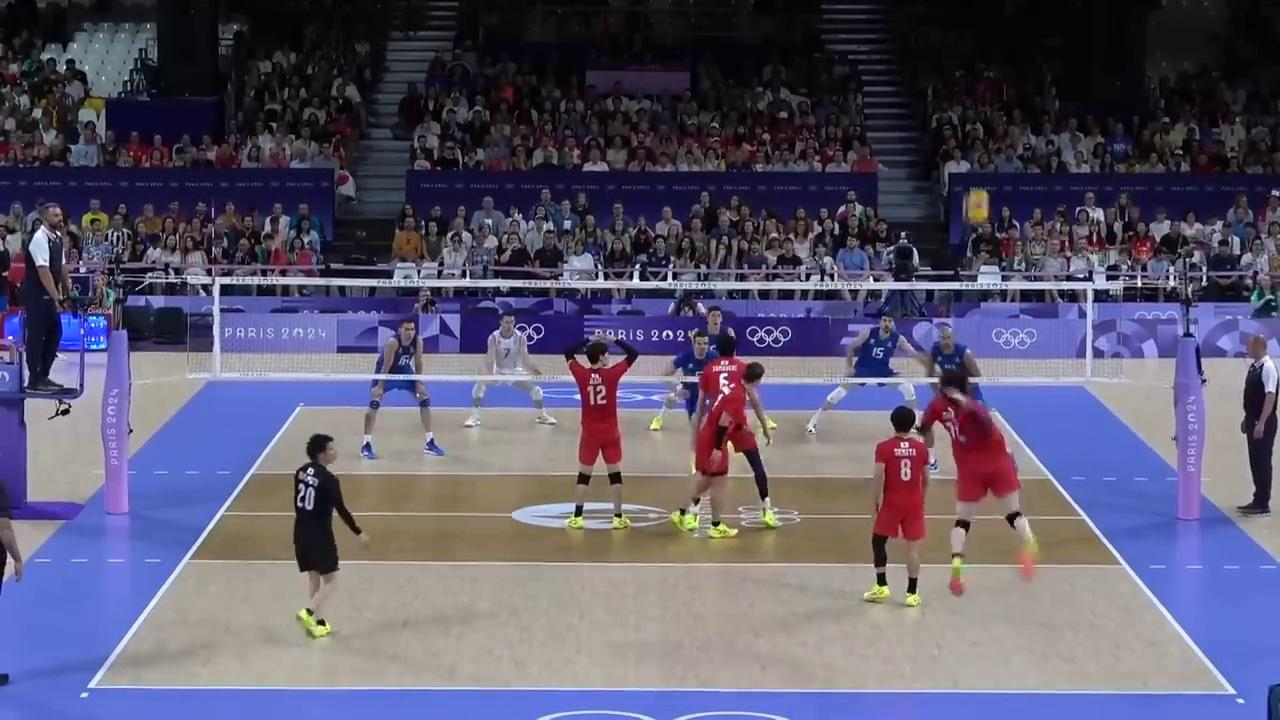ball: (966, 192, 988, 224)
